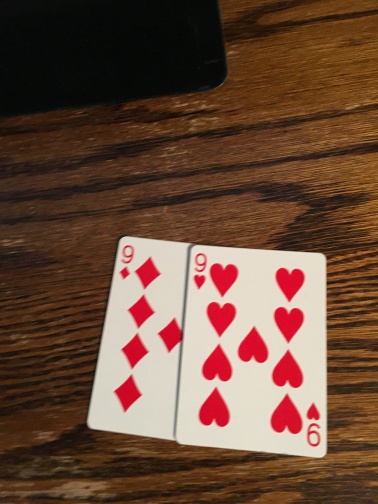nine: (175, 245, 329, 458), (82, 234, 187, 444)
